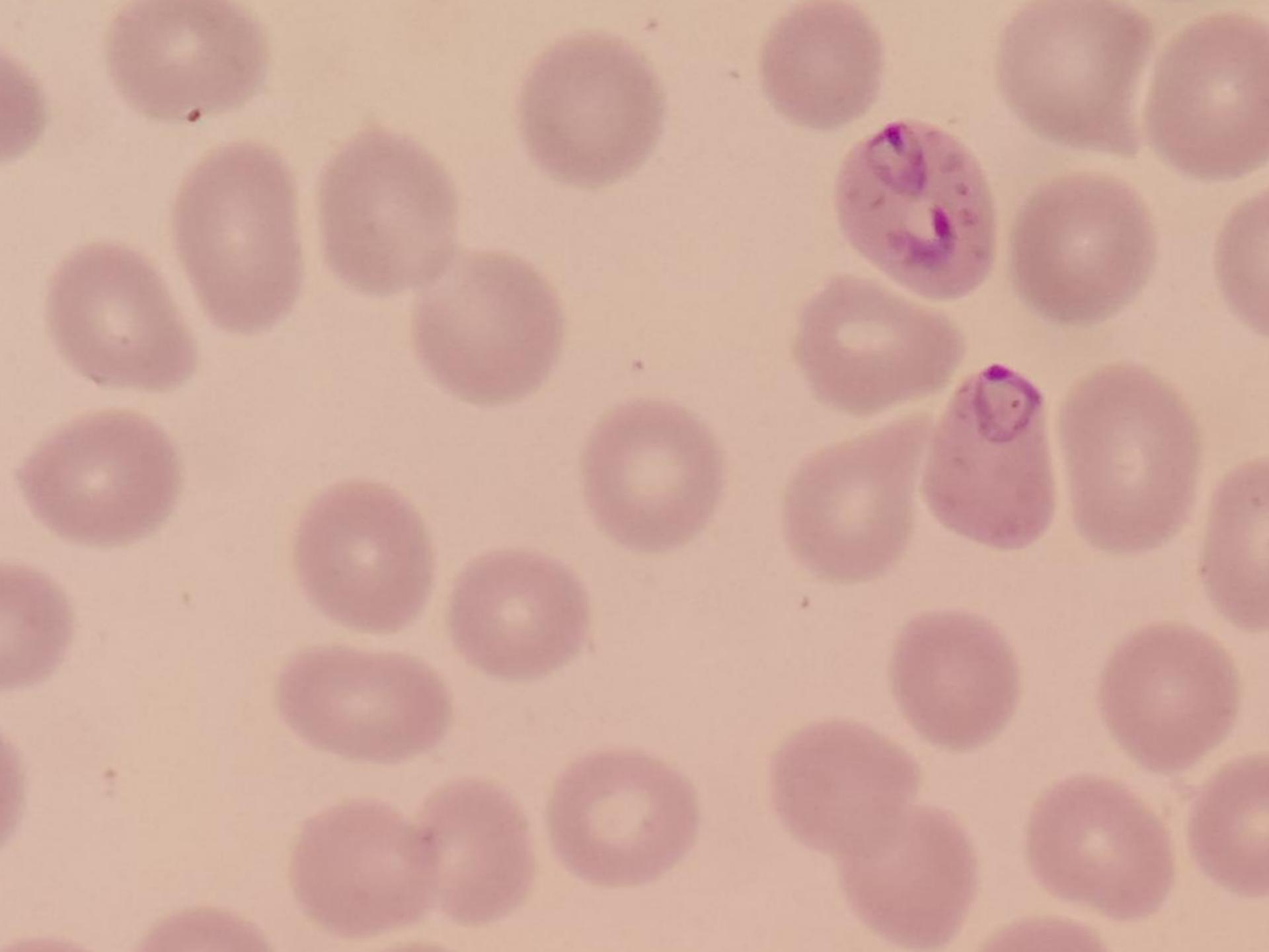Infected: (839, 118, 996, 294), (922, 362, 1059, 549)
Uninfected: (1059, 364, 1201, 557), (174, 146, 311, 337), (791, 271, 976, 411), (411, 245, 568, 406), (785, 408, 929, 583), (991, 0, 1145, 158), (316, 126, 463, 291), (294, 476, 440, 637), (43, 238, 195, 392), (26, 402, 185, 549), (580, 395, 721, 553), (1016, 170, 1160, 323), (550, 750, 707, 889), (525, 30, 663, 184), (1026, 773, 1172, 918), (1104, 620, 1238, 776), (102, 0, 270, 121), (276, 646, 453, 760), (773, 719, 919, 857), (292, 799, 436, 931), (891, 608, 1018, 750), (449, 552, 589, 680), (1155, 20, 1269, 175), (839, 813, 981, 937), (758, 0, 884, 129), (430, 778, 537, 928)
